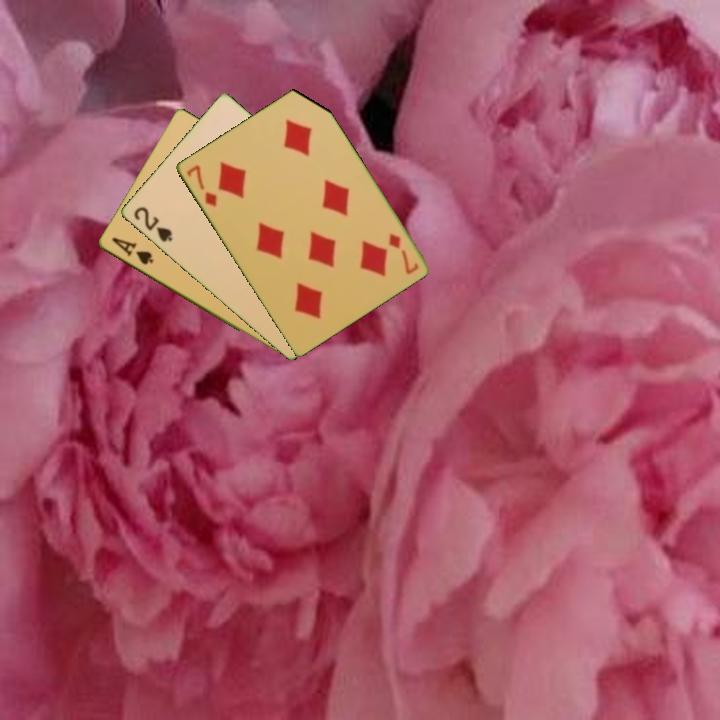2s: (130, 203, 175, 245)
7d: (182, 161, 220, 210), (385, 230, 421, 277)
As: (107, 234, 156, 268)
